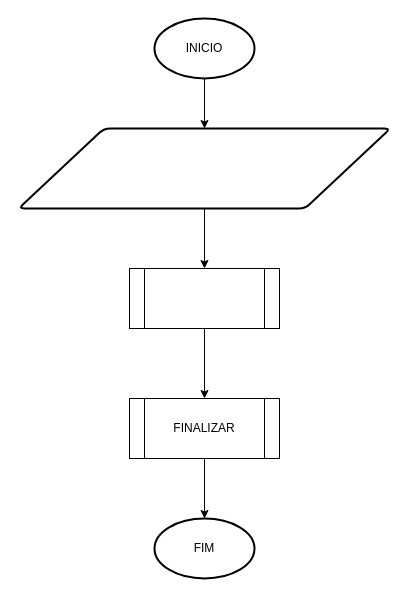
Some shapes in this 408 by 596 pixel diagram are drawn without their labels. Here are the shapes that lost their labels. From the top down, the box of each, then its label:
(17, 127, 391, 209): var_Num[8] = {5, 40, 27, 13, 1, 15, 90, 78} auxiliar contador
(128, 268, 280, 328): ORDENARVETOR
